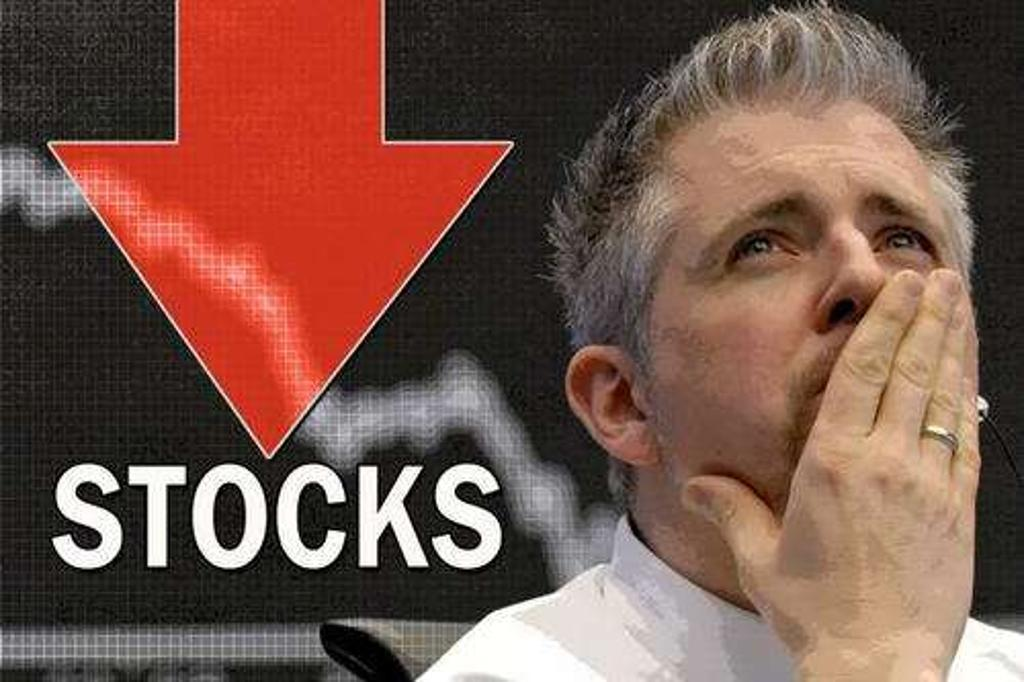face: (653, 103, 955, 551)
